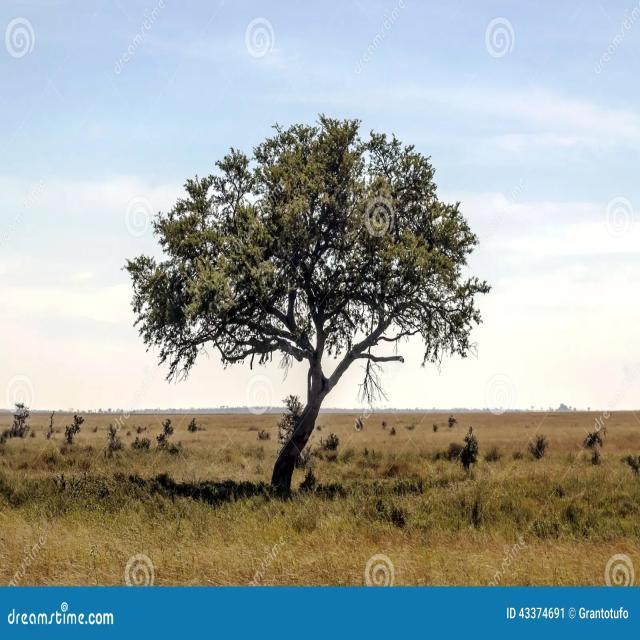Acacia: (139, 114, 480, 486)
